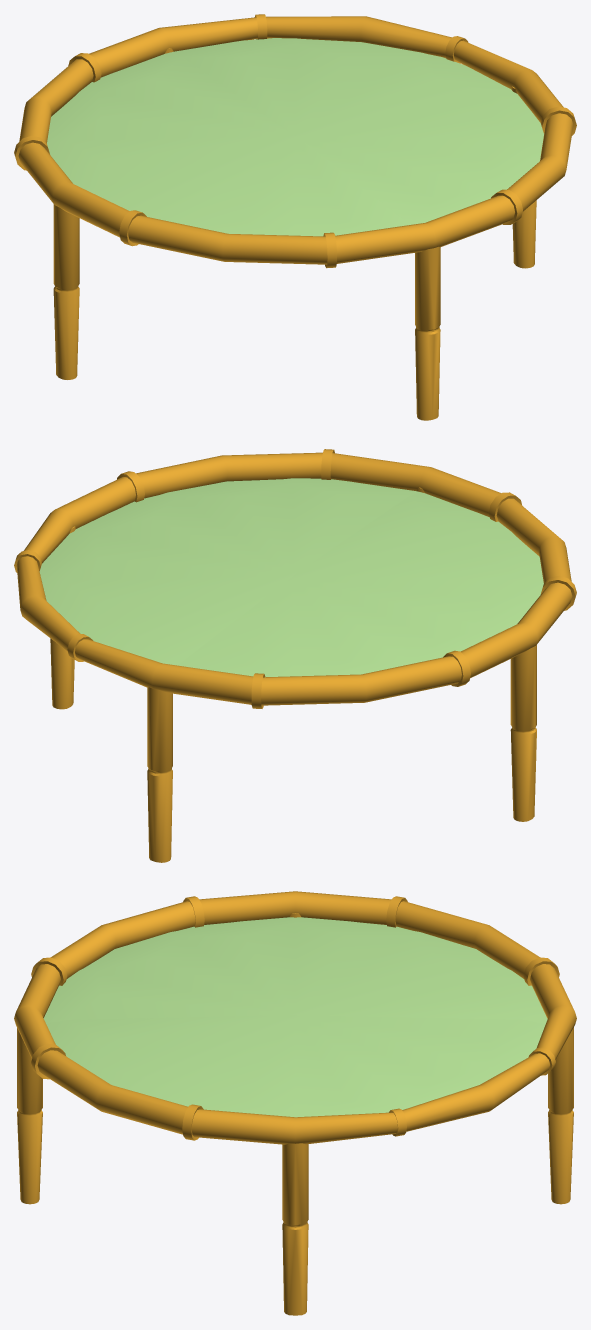
Rendered from FunSmallLvl1Trampoline.fbx.
3 renders of one model, top to bottom at view 1: azimuth 30°, elevation 25°; view 2: azimuth 150°, elevation 25°; view 3: azimuth 270°, elevation 25°, orthographic.
Visible parts, largest first — view 1: TrampolineS1; view 2: TrampolineS1; view 3: TrampolineS1.
Boxes of the visible parts, bbox=[...] form: TrampolineS1: bbox=[14, 14, 576, 420]; TrampolineS1: bbox=[14, 449, 576, 862]; TrampolineS1: bbox=[14, 891, 576, 1315].
Size of the model in its own units: 53.62 by 20.71 by 53.59.
